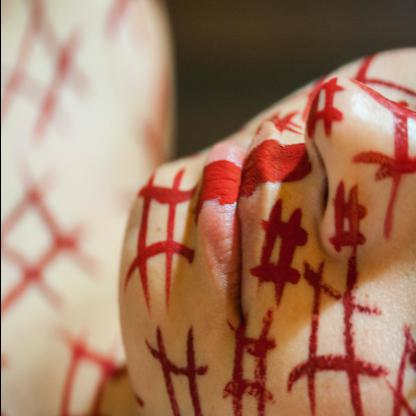Mouth: (194, 111, 282, 343)
Nose: (301, 67, 415, 270)
